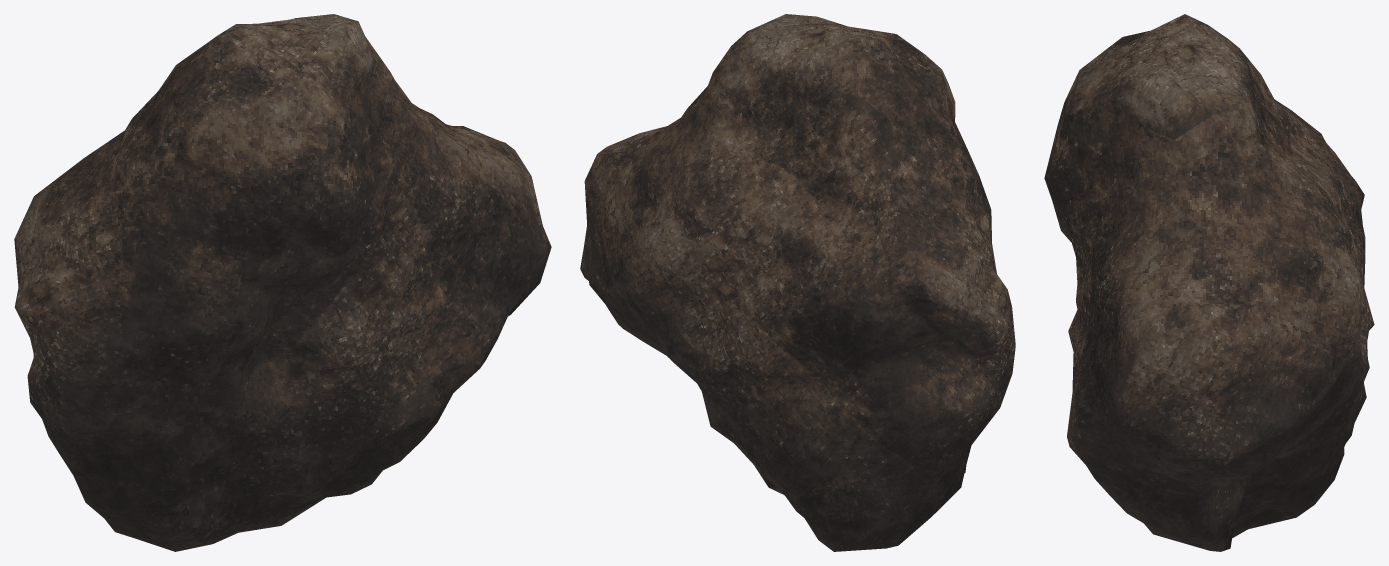
The model's file is SM_RP2_Rock_4m_6.001.glb.
3 views of the same model, side by side, from view 1: azimuth 30°, elevation 25°; view 2: azimuth 150°, elevation 25°; view 3: azimuth 270°, elevation 25° (orthographic). The views are drawn at different scales.
Parts seen in each view (by area): view 1: SM_RP2_Rock_4m_6.001; view 2: SM_RP2_Rock_4m_6.001; view 3: SM_RP2_Rock_4m_6.001.
Boxes of the visible parts, bbox=[...] form: SM_RP2_Rock_4m_6.001: bbox=[14, 14, 551, 551]; SM_RP2_Rock_4m_6.001: bbox=[580, 14, 1015, 551]; SM_RP2_Rock_4m_6.001: bbox=[1044, 14, 1374, 551].
Bounding box in the file's own units: 7.2 × 7.47 × 4.32.
Materials: 1 (1 with a texture image).
